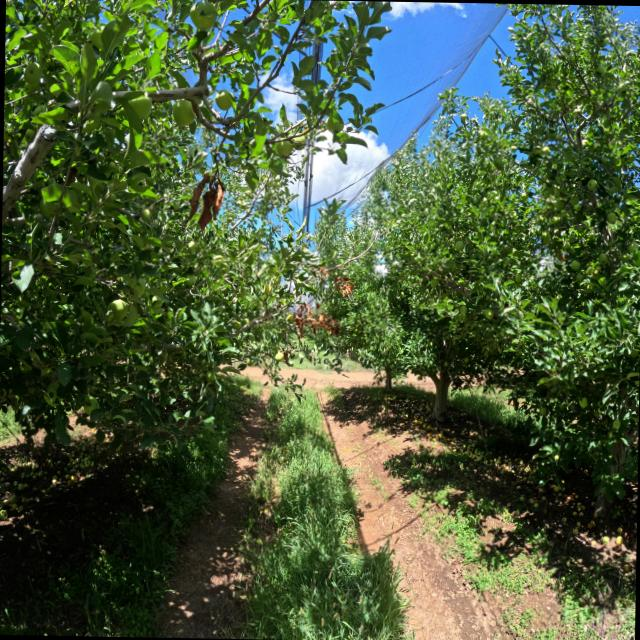-FireBlight-: (191, 174, 224, 228), (294, 300, 340, 338), (308, 261, 330, 287), (335, 274, 356, 300)
